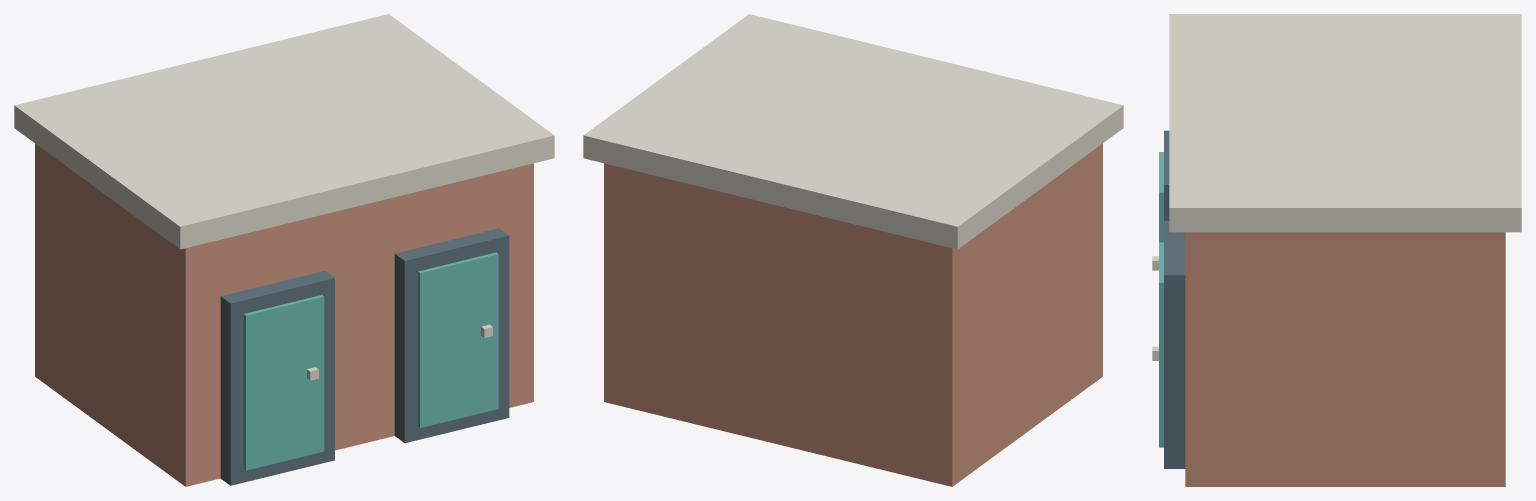
File: voxel-city-districts-public-toilets-359d9a8f__24871.glb
The picture shows the model from 3 angles, left to right: view 1: azimuth 30°, elevation 25°; view 2: azimuth 150°, elevation 25°; view 3: azimuth 270°, elevation 25°; orthographic projection. The views are drawn at different scales.
Visible parts, largest first — view 1: public-toilets-brick, public-toilets-concrete, public-toilets-accent, public-toilets-dark; view 2: public-toilets-brick, public-toilets-concrete; view 3: public-toilets-brick, public-toilets-concrete, public-toilets-dark, public-toilets-accent.
Part boxes in pixels (x1,y1,x2,y2): public-toilets-brick: (35,143,533,486); public-toilets-concrete: (14,14,554,380); public-toilets-accent: (243,252,498,470); public-toilets-dark: (220,228,509,485); public-toilets-brick: (604,143,1102,486); public-toilets-concrete: (583,14,1123,249); public-toilets-brick: (1185,232,1505,486); public-toilets-concrete: (1152,14,1521,360); public-toilets-dark: (1164,130,1185,468); public-toilets-accent: (1159,152,1163,447).
Bounding box in the file's own units: 4.3 × 2.95 × 3.46.
